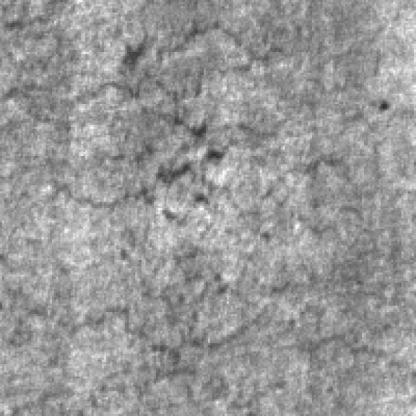crazing: (0, 16, 279, 218), (152, 245, 410, 352), (0, 300, 181, 414)
